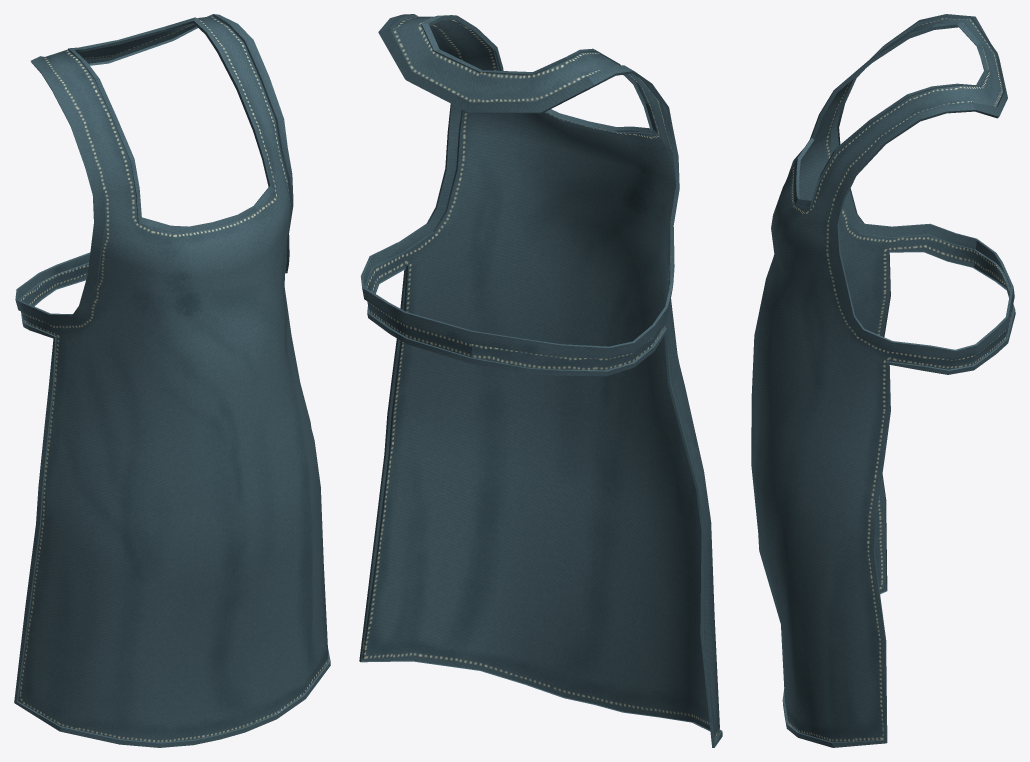
The model's file is apron_Low_poly.fbx.
3 renders of one model, left to right at view 1: azimuth 30°, elevation 25°; view 2: azimuth 150°, elevation 25°; view 3: azimuth 270°, elevation 25°, orthographic. The views are drawn at different scales.
Parts seen in each view (by area): view 1: apron_myfree3d_com_; view 2: apron_myfree3d_com_; view 3: apron_myfree3d_com_.
Part boxes in pixels (<box>): apron_myfree3d_com_: <box>14,14,330,747</box>; apron_myfree3d_com_: <box>359,14,722,747</box>; apron_myfree3d_com_: <box>751,14,1015,747</box>.
Bounding box in the file's own units: 6.17 × 12.22 × 4.5.
1 material, 1 textured.
